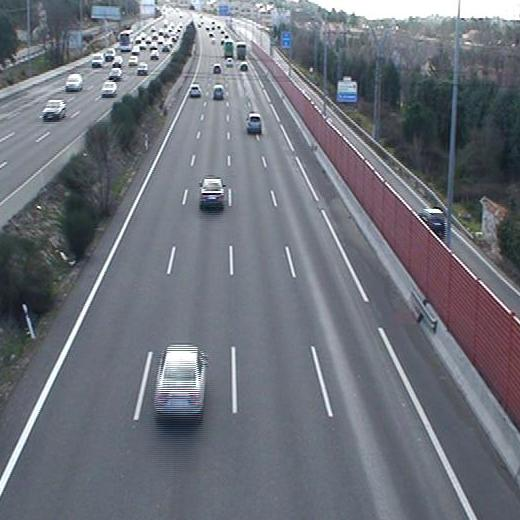bus: (224, 40, 233, 55)
car: (154, 345, 206, 417), (199, 177, 225, 208), (247, 112, 263, 133), (189, 84, 202, 96), (214, 85, 223, 99), (213, 63, 221, 75), (239, 61, 247, 70), (226, 58, 233, 66)
small-truck: (237, 42, 246, 58)
